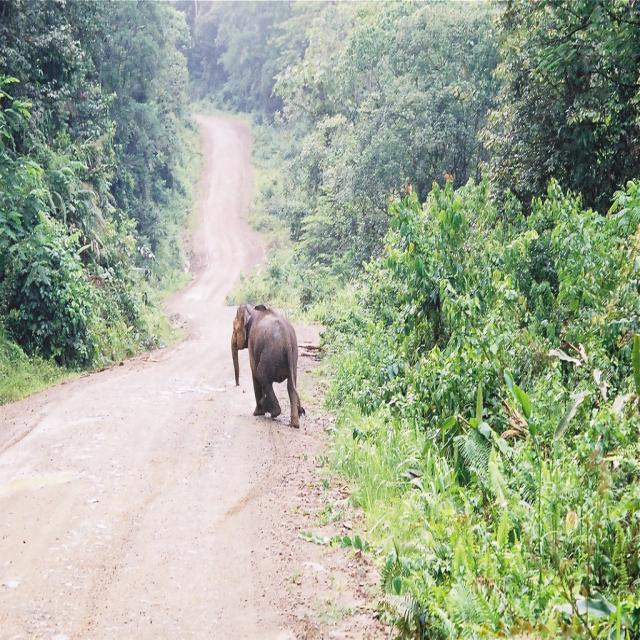Elephant: (230, 302, 306, 428)
